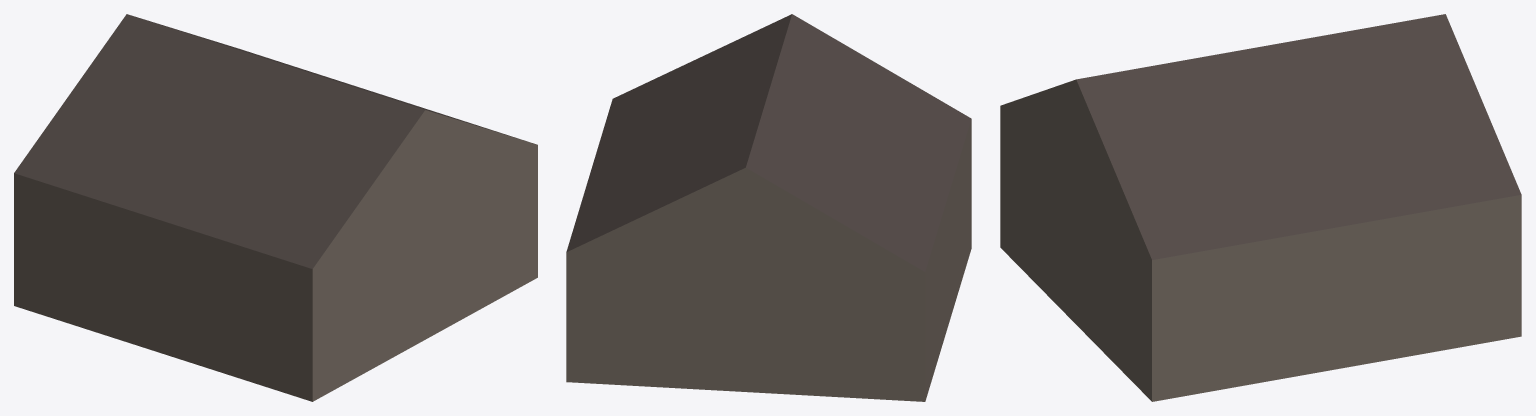
3 renders of one model, left to right at view 1: azimuth 30°, elevation 25°; view 2: azimuth 150°, elevation 25°; view 3: azimuth 270°, elevation 25°, orthographic. The views are drawn at different scales.
Parts seen in each view (by area): view 1: HP-w1287936334; view 2: HP-w1287936334; view 3: HP-w1287936334.
Part boxes in pixels (x1=…): HP-w1287936334: x1=14, y1=14, x2=537, y2=401; HP-w1287936334: x1=566, y1=14, x2=971, y2=401; HP-w1287936334: x1=1000, y1=14, x2=1521, y2=401.
Bounding box in the file's own units: 19.95 × 10.38 × 19.99.
